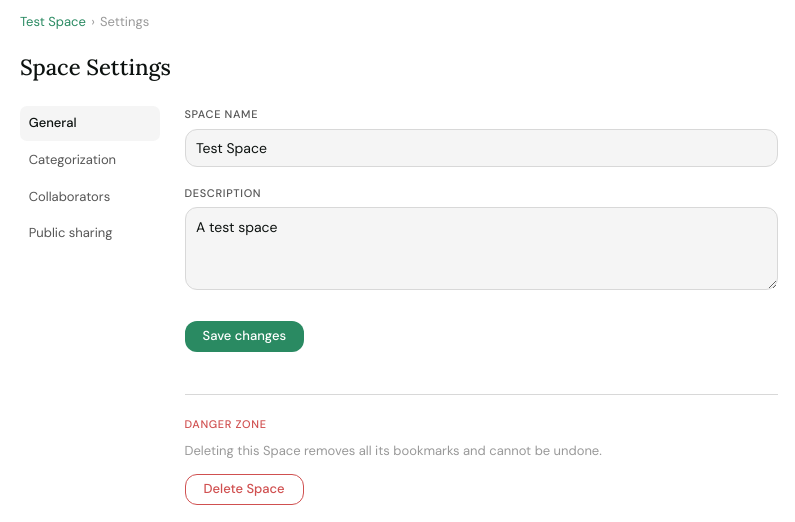
Test case: SpaceSettings › Collaborators section › owner member does NOT show Remove button
The width and height of the screenshot is (795, 522).
Step 1. Click the button "Collaborators" → x=90, y=197, box [20,180,160,214]
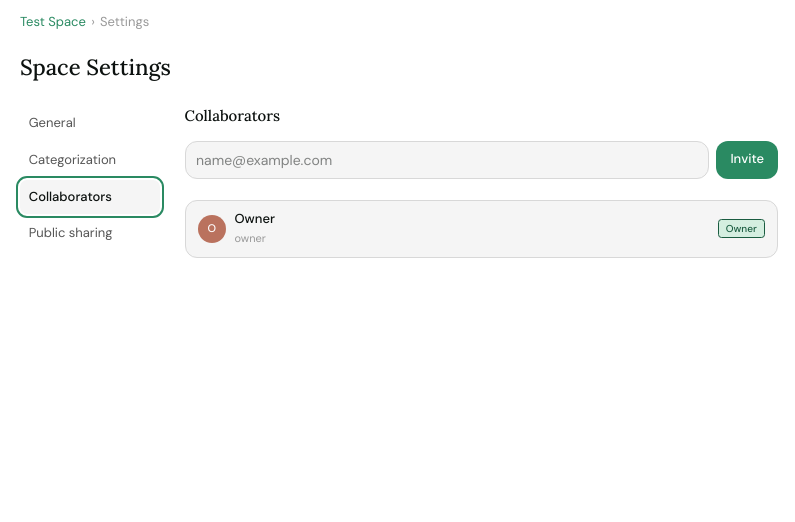
Result: the text "Owner" is shown at [234,210,275,228]
Result: the text "remove" is gone
